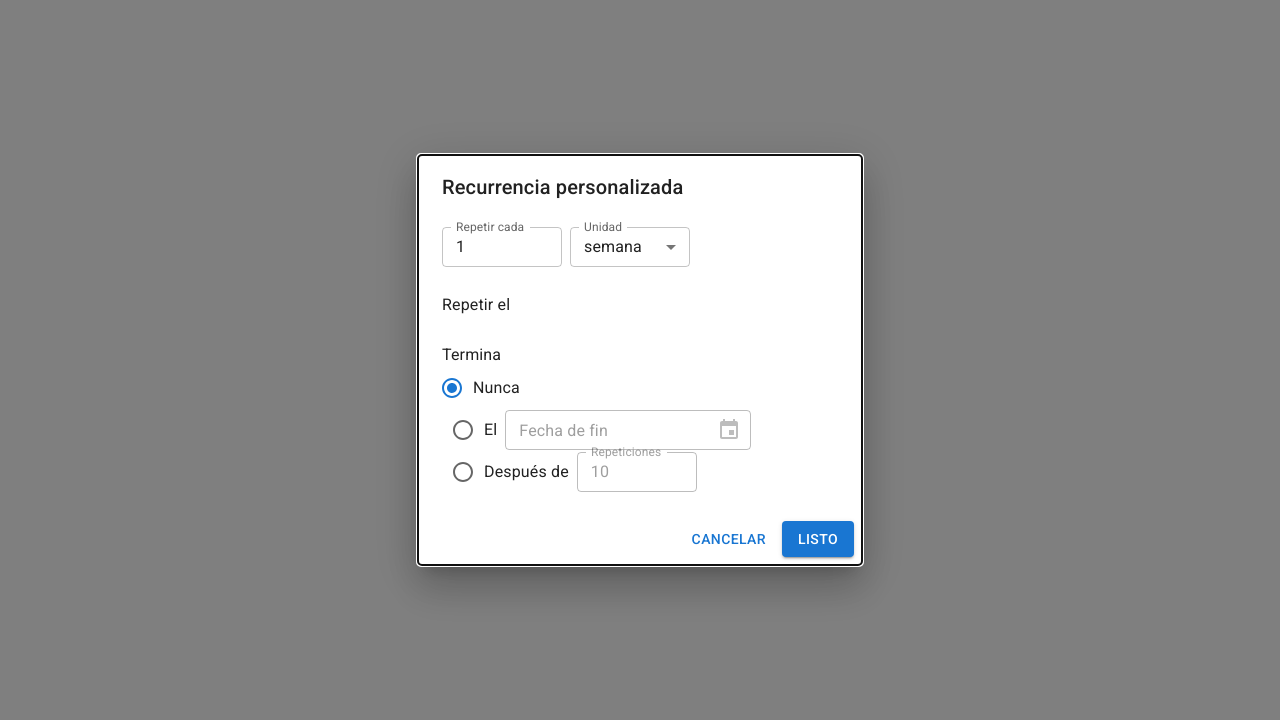
Test: CustomRecurrenceDialog › requires the end date when it ends on a date
Click the radio button labelled "Nunca": (480, 388) [440,376,520,400]
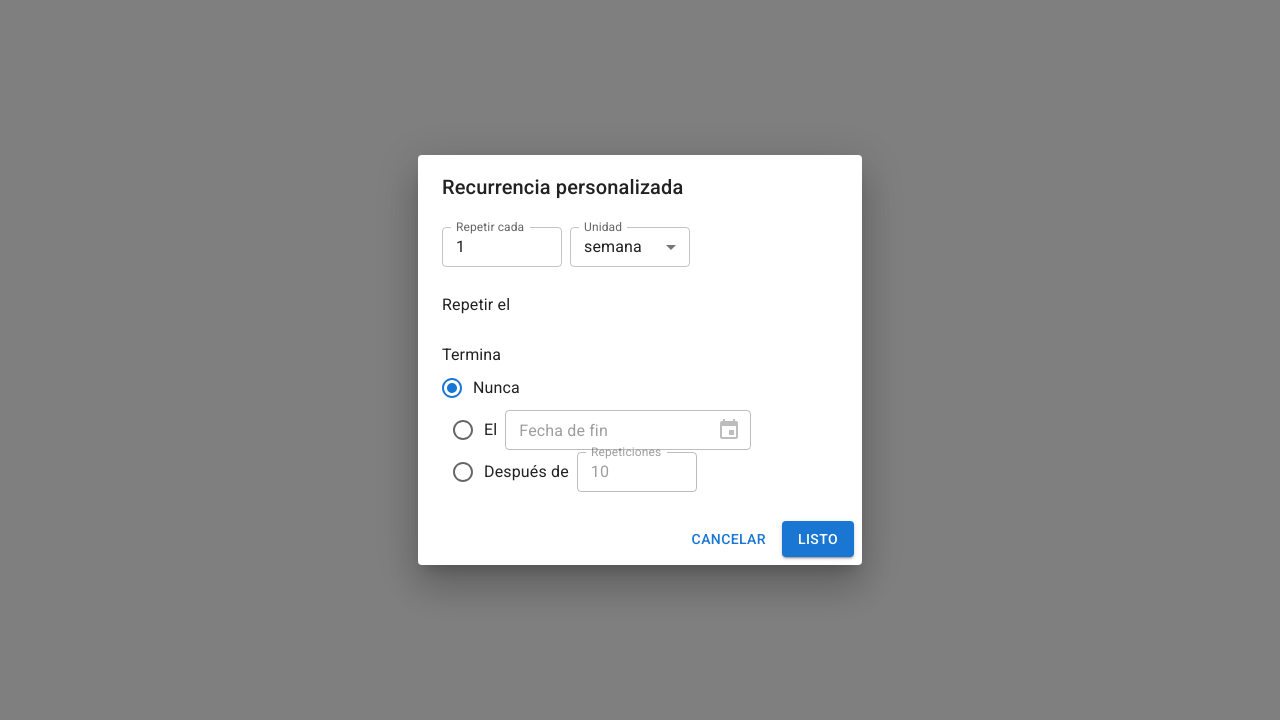
Click the radio button labelled "El": (474, 430) [451,418,497,442]
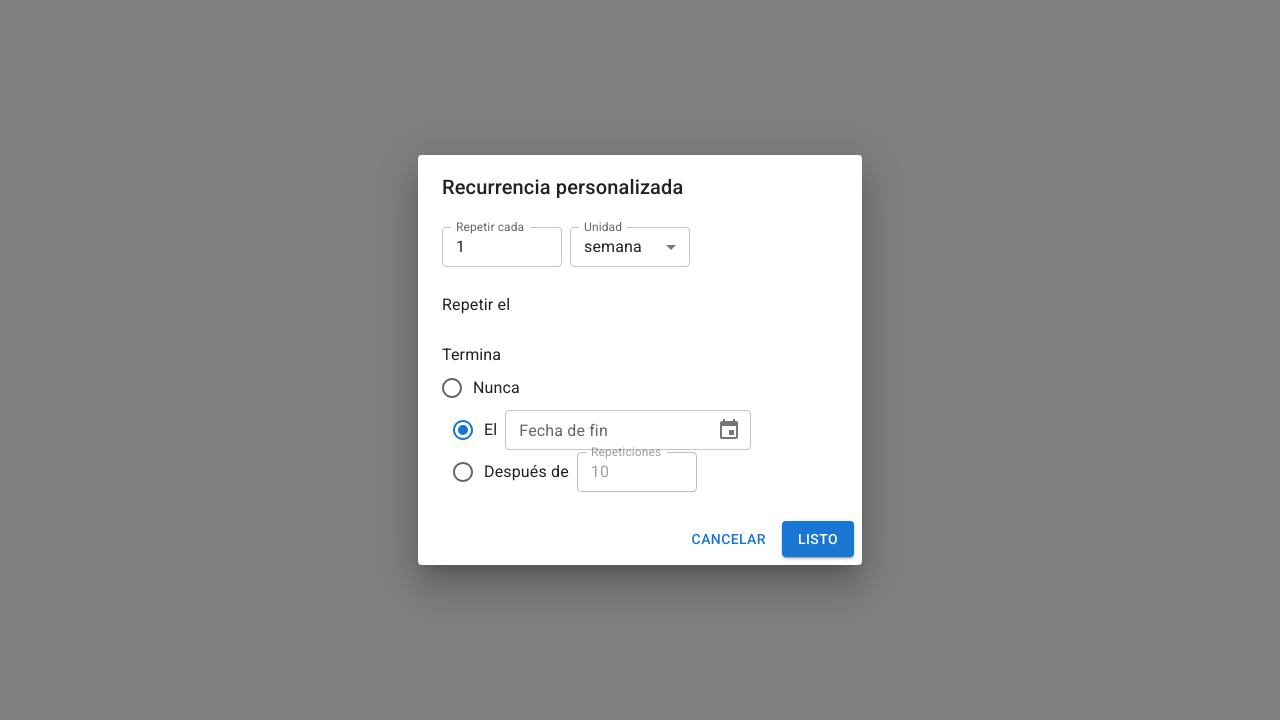
Click the button "Listo": (818, 539) [782,521,854,557]
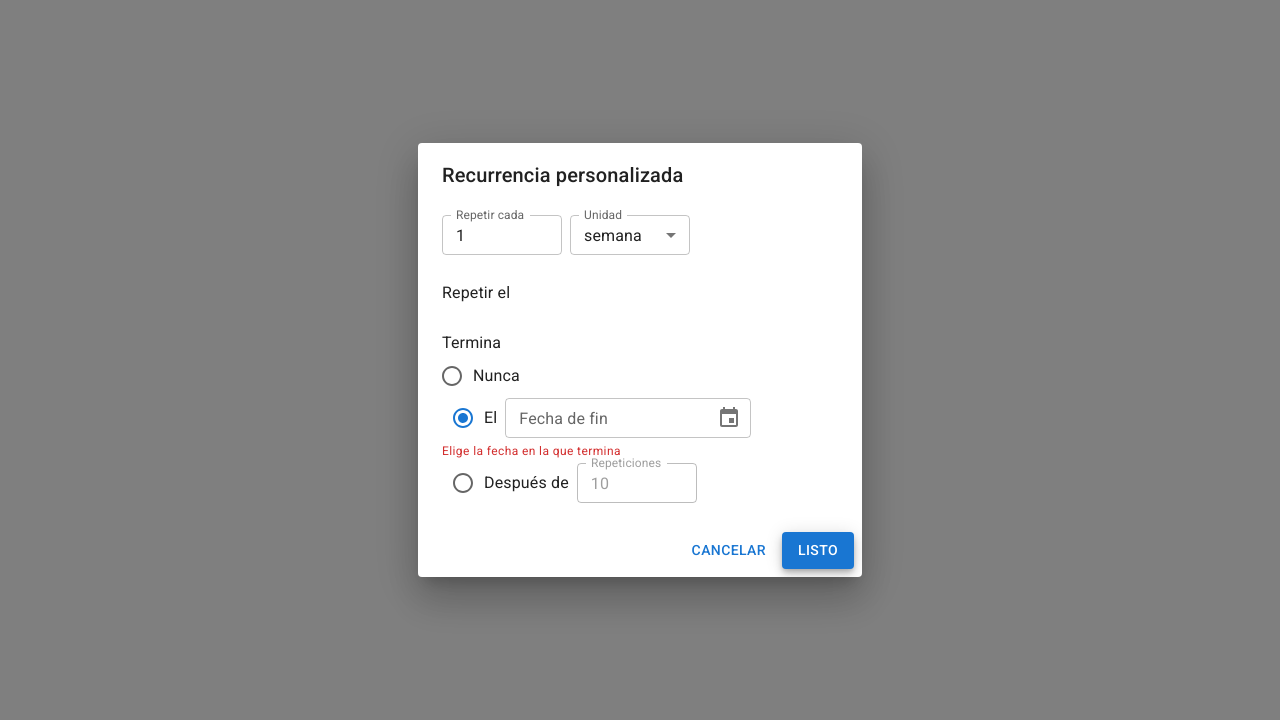
Now the text "Elige la fecha en la que termina" is shown, box [442,444,621,458]
